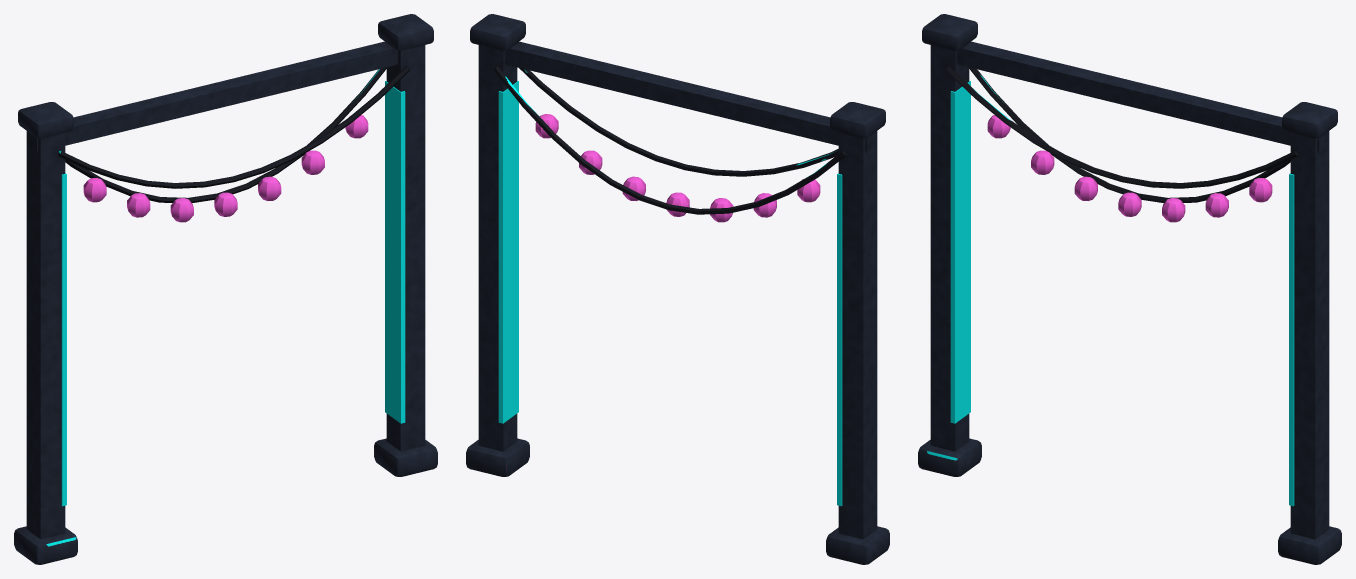
The model's file is cable_arch.fbx.
3 renders of one model, left to right at view 1: azimuth 30°, elevation 25°; view 2: azimuth 150°, elevation 25°; view 3: azimuth 330°, elevation 25°, orthographic.
Parts seen in each view (by area): view 1: cable_arch, cable_arch_glow2, cable_arch_glow; view 2: cable_arch, cable_arch_glow2, cable_arch_glow; view 3: cable_arch, cable_arch_glow2, cable_arch_glow.
Part boxes in pixels (left/top/right/bottom): cable_arch: left=14, top=14, right=437, bottom=564; cable_arch_glow2: left=61, top=81, right=405, bottom=506; cable_arch_glow: left=83, top=115, right=368, bottom=222; cable_arch: left=466, top=14, right=889, bottom=564; cable_arch_glow2: left=498, top=81, right=842, bottom=506; cable_arch_glow: left=535, top=114, right=820, bottom=222; cable_arch: left=918, top=14, right=1341, bottom=564; cable_arch_glow2: left=950, top=81, right=1294, bottom=506; cable_arch_glow: left=987, top=115, right=1272, bottom=222.
Size of the model in its own units: 740 by 775 by 80.
1 material, 1 textured.
